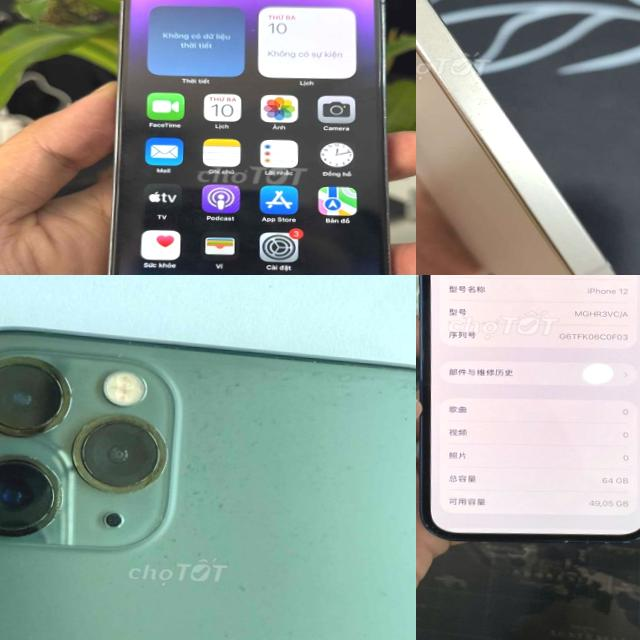gen_11: (0, 319, 416, 640)
gen_12_13: (416, 275, 640, 548)
gen_14: (100, 0, 416, 275)
gen_15: (416, 0, 640, 275)
scratch: (161, 344, 416, 516), (0, 335, 159, 540), (416, 0, 554, 182), (230, 559, 258, 611)
